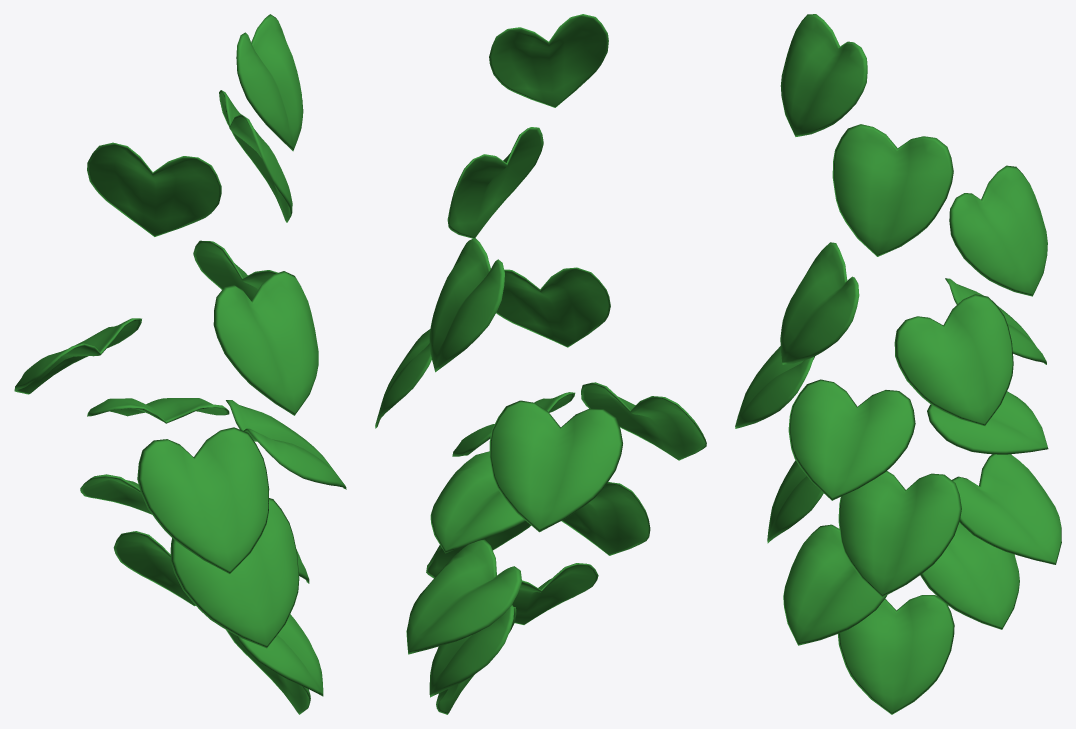
File: vines.glb
3 views of the same model, side by side, from view 1: azimuth 30°, elevation 25°; view 2: azimuth 150°, elevation 25°; view 3: azimuth 270°, elevation 25° (orthographic). The views are drawn at different scales.
Visible parts, largest first — view 1: Sample 3_Pothos Leaf 3_0; view 2: Sample 3_Pothos Leaf 3_0; view 3: Sample 3_Pothos Leaf 3_0.
Part boxes in pixels (box(x1,y1,x2,y2)): Sample 3_Pothos Leaf 3_0: box(14, 14, 346, 714); Sample 3_Pothos Leaf 3_0: box(375, 14, 706, 714); Sample 3_Pothos Leaf 3_0: box(735, 14, 1061, 714).
Bounding box in the file's own units: 1.54 × 4.21 × 1.9.
